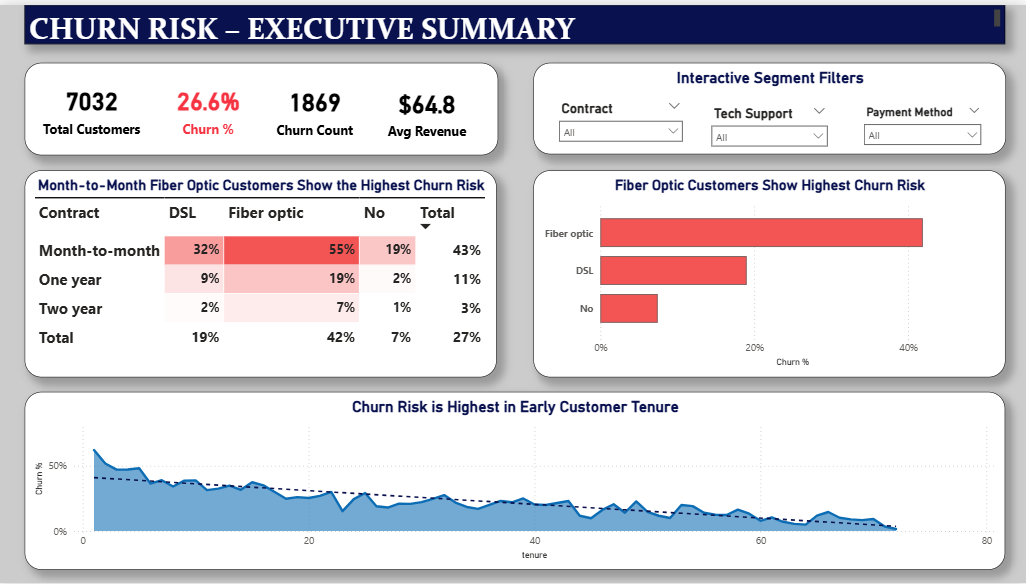

This screenshot's page, from the dashboard's own definition file:
{"tool":"powerbi","page":{"name":"Page 2","canvas":[1280,720],"ordinal":0},"visuals":[{"type":"textbox","box":[32.5,0,1221.8,48.7],"z":1000},{"type":"pivotTable","title":"Month-to-Month Fiber Optic Customers Show the Highest Churn Risk","fields":{"Columns":["cleaned_telco_data.InternetService"],"Values":["cleaned_telco_data.Churn %"],"Rows":["cleaned_telco_data.Contract"]},"box":[32.5,205.7,588.3,258.1],"z":2000},{"type":"clusteredBarChart","title":"Fiber Optic Customers Show Highest Churn Risk","fields":{"Y":["cleaned_telco_data.Churn %"],"Category":["cleaned_telco_data.InternetService"]},"box":[665.9,205.7,588.3,258.1],"z":3000},{"type":"lineChart","title":"Churn Risk is Highest in Early Customer Tenure","fields":{"Y":["cleaned_telco_data.Churn %"],"Category":["cleaned_telco_data.tenure"]},"box":[33,481.3,1222,222],"z":4000},{"type":"multiRowCard","title":"Interactive Segment Filters","fields":{"Values":["cleaned_telco_data.Churn %"]},"box":[665.9,72.5,589,114.3],"z":4500},{"type":"slicer","fields":{"Values":["cleaned_telco_data.Contract"]},"box":[687.9,114.3,173.6,63.7],"z":5000},{"type":"slicer","fields":{"Values":["cleaned_telco_data.PaymentMethod"]},"box":[1068.4,119.1,166,63.2],"z":6000},{"type":"slicer","fields":{"Values":["cleaned_telco_data.TechSupport"]},"box":[878.9,119.1,164.2,63.2],"z":7000},{"type":"multiRowCard","fields":{"Values":["cleaned_telco_data.Avg Revenue"]},"box":[32.5,72.2,590.1,115.5],"z":8000},{"type":"card","fields":{"Values":["cleaned_telco_data.Avg Revenue"]},"box":[463.7,87.9,138.5,87.9],"z":9000},{"type":"card","fields":{"Values":["cleaned_telco_data.Total Customers"]},"box":[45.1,84.8,139,90.2],"z":10000},{"type":"card","fields":{"Values":["cleaned_telco_data.Churn %"]},"box":[191.3,84.8,137.2,90.2],"z":11000},{"type":"card","fields":{"Values":["cleaned_telco_data.Churn Count"]},"box":[324.9,86.6,139,88.4],"z":12000}]}

Visuals, with their boxes in screenshot pixels (x1, y1, x2, y2), scaled from the page's 1280x720 canvas onto the 1026x584 screenshot:
textbox: <region>26, 0, 1005, 40</region>
"Month-to-Month Fiber Optic Customers Show the Highest Churn Risk" pivotTable: <region>26, 167, 498, 376</region>
"Fiber Optic Customers Show Highest Churn Risk" clusteredBarChart: <region>534, 167, 1005, 376</region>
"Churn Risk is Highest in Early Customer Tenure" lineChart: <region>26, 390, 1006, 570</region>
"Interactive Segment Filters" multiRowCard: <region>534, 59, 1006, 152</region>
slicer - cleaned_telco_data.Contract: <region>551, 93, 691, 144</region>
slicer - cleaned_telco_data.PaymentMethod: <region>856, 97, 989, 148</region>
slicer - cleaned_telco_data.TechSupport: <region>704, 97, 836, 148</region>
multiRowCard - cleaned_telco_data.Avg Revenue: <region>26, 59, 499, 152</region>
card - cleaned_telco_data.Avg Revenue: <region>372, 71, 483, 143</region>
card - cleaned_telco_data.Total Customers: <region>36, 69, 148, 142</region>
card - cleaned_telco_data.Churn %: <region>153, 69, 263, 142</region>
card - cleaned_telco_data.Churn Count: <region>260, 70, 372, 142</region>
